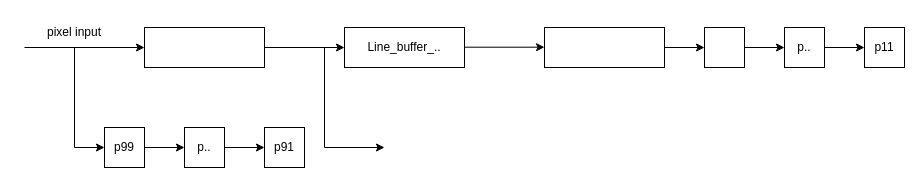
This 922x185 diagram has some shape labels left out. The centre of each missing label's shape, as x and y in pixels:
Line_buffer_0: the point at 204,47
Line_buffer_7: the point at 604,47
p19: the point at 724,47
